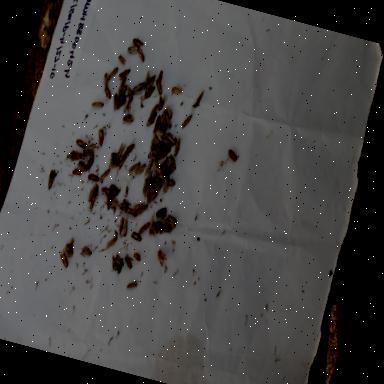pbw: (105, 89, 125, 119), (42, 164, 60, 196), (76, 239, 97, 266), (190, 85, 208, 116), (133, 152, 149, 186), (53, 251, 73, 276), (118, 90, 133, 121), (165, 78, 186, 100), (140, 156, 158, 181), (120, 249, 138, 274), (129, 78, 146, 104), (128, 36, 148, 58), (139, 72, 157, 96), (170, 134, 187, 159), (162, 170, 178, 196), (178, 108, 194, 134), (102, 63, 120, 86), (140, 82, 157, 106), (63, 148, 83, 168), (164, 155, 184, 175), (120, 276, 139, 297), (88, 94, 106, 116), (132, 46, 150, 68), (100, 236, 118, 258), (152, 248, 170, 270), (154, 142, 169, 168), (113, 216, 128, 242), (119, 216, 134, 242), (134, 202, 150, 226), (111, 250, 130, 270), (84, 152, 98, 178), (140, 64, 154, 90), (158, 172, 173, 196), (93, 126, 108, 150), (121, 96, 136, 120), (128, 246, 144, 268), (115, 64, 131, 86), (159, 111, 175, 133), (144, 211, 158, 236), (154, 109, 168, 133), (99, 82, 115, 103), (98, 70, 113, 92), (149, 126, 167, 144), (110, 260, 126, 280), (113, 141, 126, 165), (101, 193, 115, 215), (126, 158, 140, 180), (127, 228, 144, 246), (119, 114, 136, 132), (152, 165, 168, 184), (146, 135, 161, 155), (144, 111, 158, 132), (97, 183, 114, 200), (80, 140, 96, 158), (224, 146, 240, 164), (124, 43, 140, 61), (84, 194, 97, 216), (152, 68, 166, 88), (109, 196, 123, 216), (158, 146, 172, 166), (146, 186, 160, 206), (152, 79, 166, 98), (153, 95, 167, 114), (148, 220, 162, 239), (116, 151, 128, 173), (154, 204, 170, 220), (151, 113, 162, 136), (97, 168, 111, 186), (148, 101, 160, 122), (146, 144, 160, 162), (74, 158, 88, 176), (65, 236, 76, 258), (73, 137, 89, 152), (107, 180, 122, 196), (165, 214, 180, 230), (115, 53, 129, 70), (130, 201, 144, 218), (114, 78, 127, 96), (108, 255, 120, 274), (124, 140, 138, 156), (160, 223, 176, 237), (166, 132, 180, 148), (153, 220, 166, 237), (87, 171, 101, 186), (138, 220, 150, 237), (140, 178, 150, 198), (86, 184, 96, 204), (144, 170, 154, 190), (82, 147, 96, 161), (107, 158, 121, 172), (124, 207, 139, 220), (164, 104, 176, 120), (118, 83, 128, 101), (159, 122, 168, 140), (161, 136, 174, 148), (107, 198, 120, 210), (147, 176, 157, 191), (120, 198, 132, 210), (70, 168, 82, 180), (144, 186, 152, 204), (116, 204, 128, 214), (153, 177, 165, 187), (108, 151, 118, 161)
